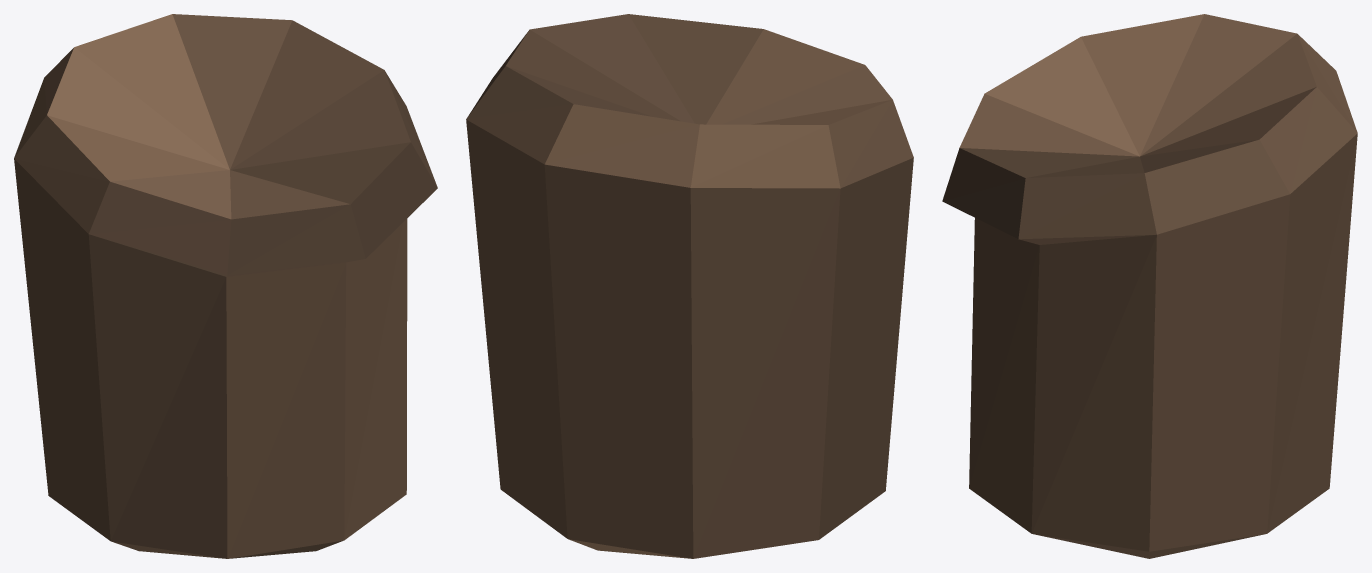
The model's file is Prop_GrainBagBLOD1.fbx.
3 views of the same model, side by side, from view 1: azimuth 30°, elevation 25°; view 2: azimuth 150°, elevation 25°; view 3: azimuth 270°, elevation 25° (orthographic). The views are drawn at different scales.
Visible parts, largest first — view 1: Prop_GrainBagBLOD1; view 2: Prop_GrainBagBLOD1; view 3: Prop_GrainBagBLOD1.
Part boxes in pixels (x1=…): Prop_GrainBagBLOD1: x1=14, y1=14, x2=437, y2=558; Prop_GrainBagBLOD1: x1=466, y1=14, x2=913, y2=558; Prop_GrainBagBLOD1: x1=942, y1=14, x2=1357, y2=558.
Size of the model in its own units: 55.55 by 63 by 55.5.
